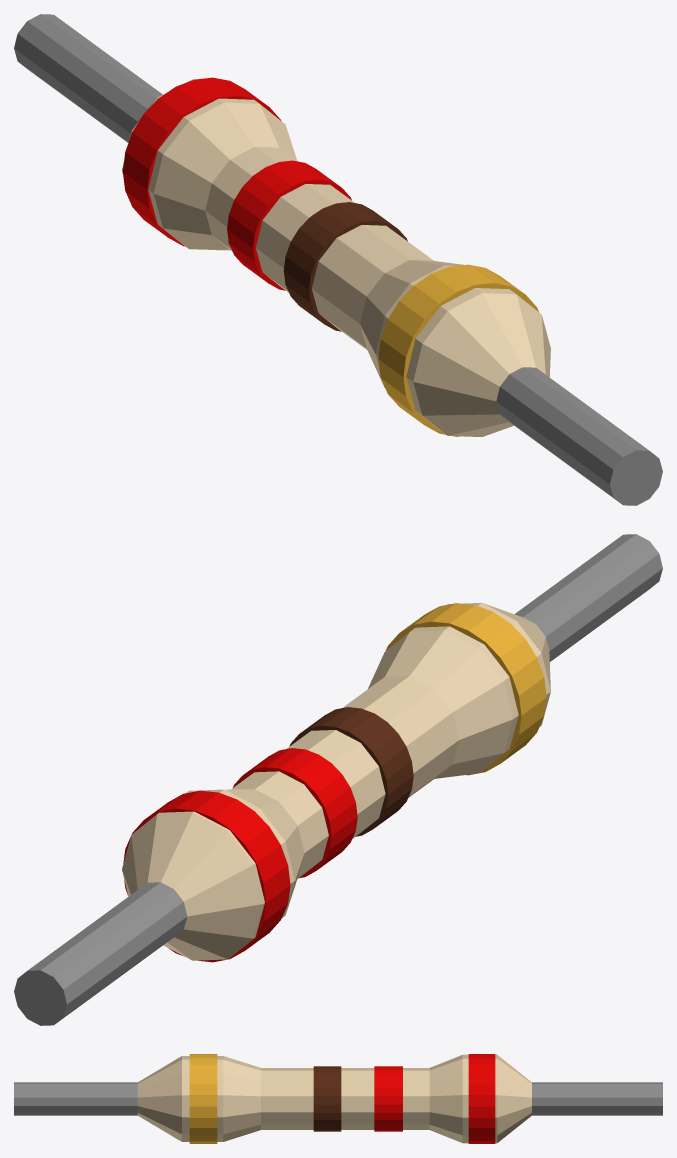
Rendered from resistor.fbx.
The picture shows the model from 3 angles, top to bottom: view 1: azimuth 30°, elevation 25°; view 2: azimuth 150°, elevation 25°; view 3: azimuth 270°, elevation 25°; orthographic projection. The views are drawn at different scales.
Parts seen in each view (by area): view 1: Resistor, Ring4, Ring1, Ring2, Ring3; view 2: Resistor, Ring4, Ring1, Ring2, Ring3; view 3: Resistor, Ring4, Ring1, Ring2, Ring3.
Boxes of the visible parts, box(x1,y1,x2,y2) form: Resistor: box(14, 14, 662, 505); Ring4: box(378, 264, 538, 436); Ring1: box(123, 77, 281, 246); Ring2: box(227, 160, 351, 290); Ring3: box(283, 202, 407, 331); Resistor: box(14, 534, 662, 1025); Ring4: box(386, 603, 546, 775); Ring1: box(123, 790, 290, 962); Ring2: box(233, 748, 357, 878); Ring3: box(289, 707, 413, 836); Resistor: box(14, 1054, 662, 1143); Ring4: box(189, 1054, 217, 1143); Ring1: box(468, 1054, 495, 1143); Ring2: box(374, 1066, 402, 1131); Ring3: box(313, 1066, 341, 1131).
Size of the model in its own units: 53.99 by 53.99 by 389.
